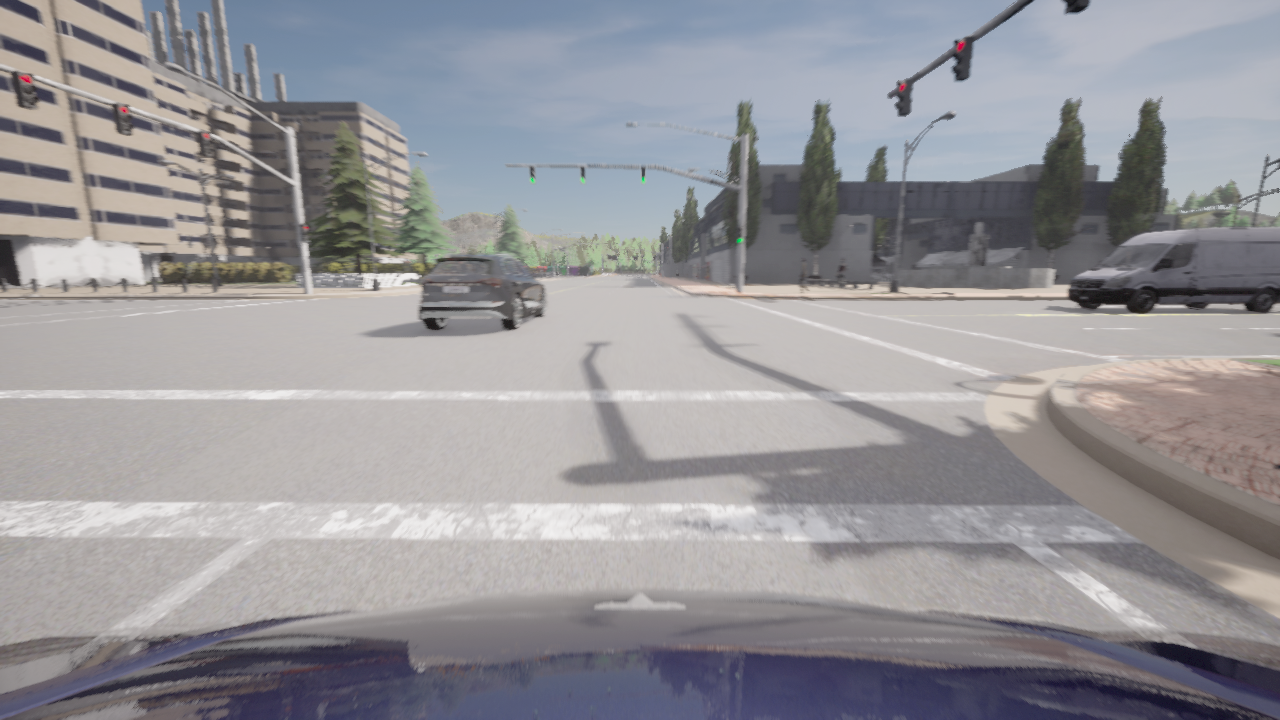cyclist: (0, 588, 1279, 719), (1068, 227, 1279, 312), (419, 251, 547, 330), (529, 269, 547, 276), (549, 270, 560, 275), (560, 273, 562, 275)
pedestrian: (798, 258, 809, 293), (836, 259, 847, 291)
